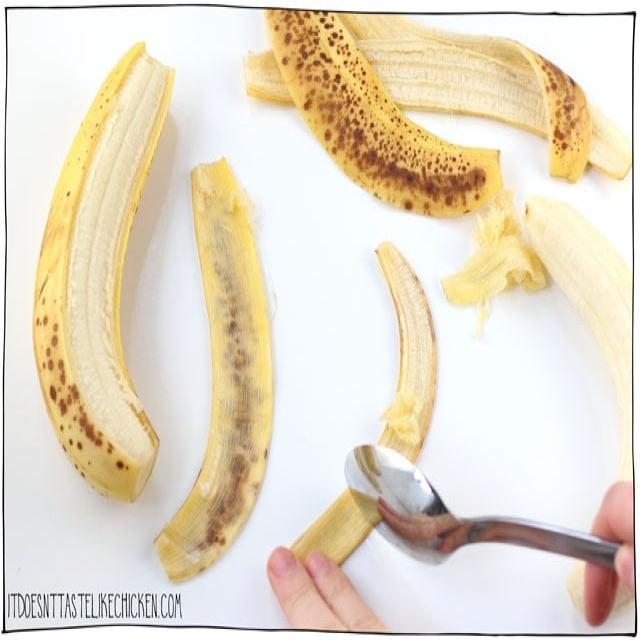banana_peel: (265, 13, 639, 236), (20, 35, 192, 508), (136, 140, 295, 597), (368, 229, 450, 454)
